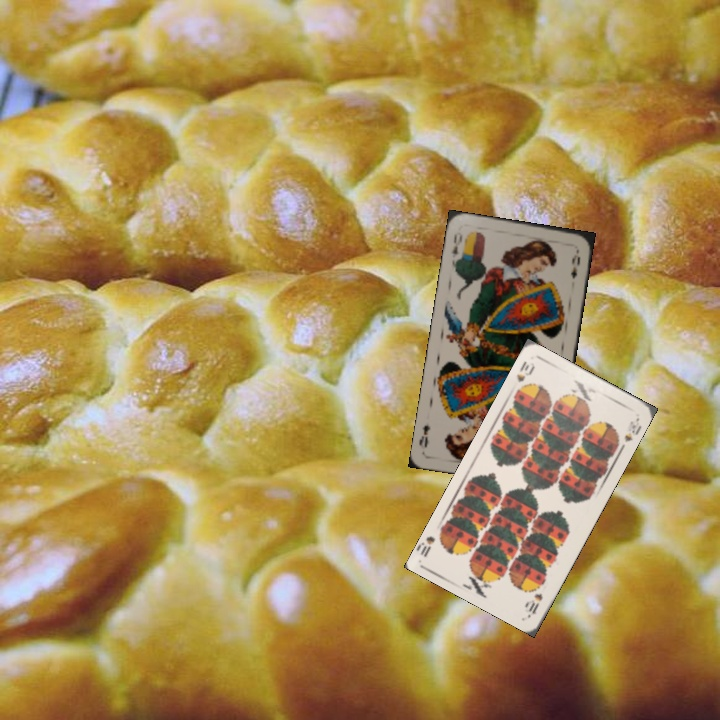EO: (448, 228, 468, 267)
S10: (512, 357, 538, 395), (523, 589, 545, 617)
